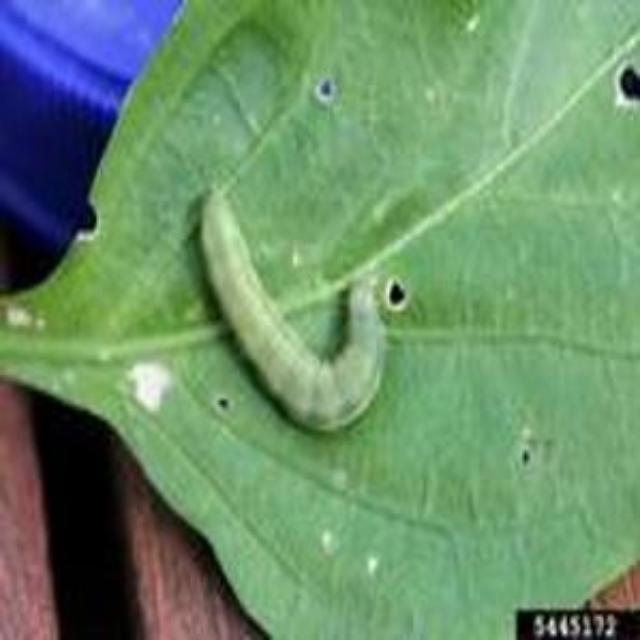Beet armyworm: (173, 162, 407, 450)
